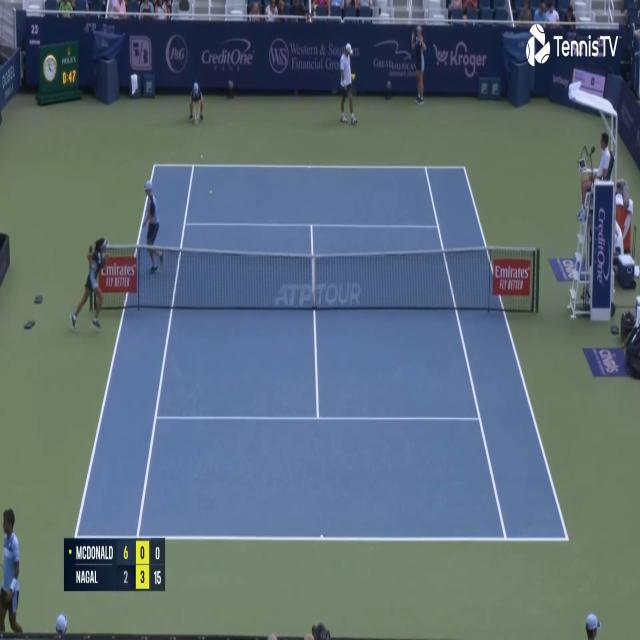tennis-player: (0, 501, 26, 638), (333, 40, 358, 127)
